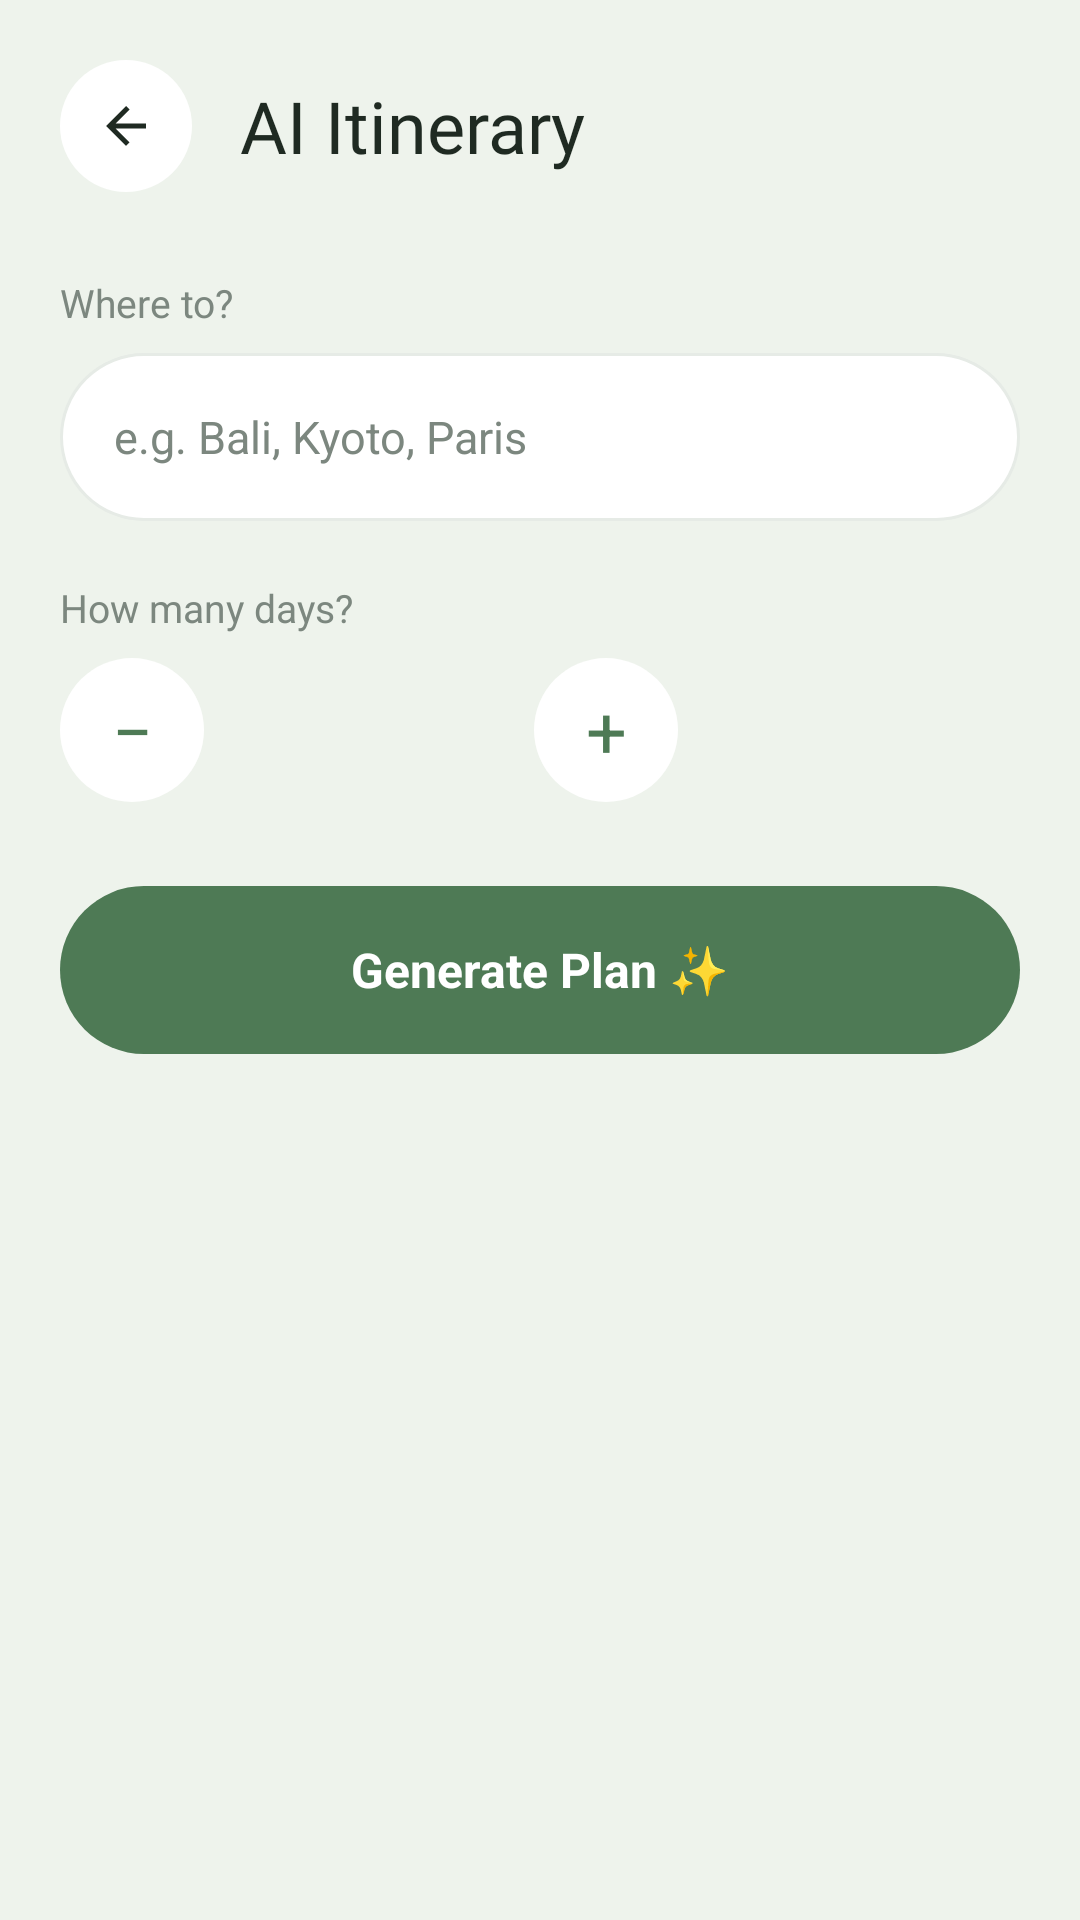

Locate icon controls on the screen. Image size 1080px×1920px, boxes as (x1, y1, x2, y2).
back: (60, 60, 192, 192)
